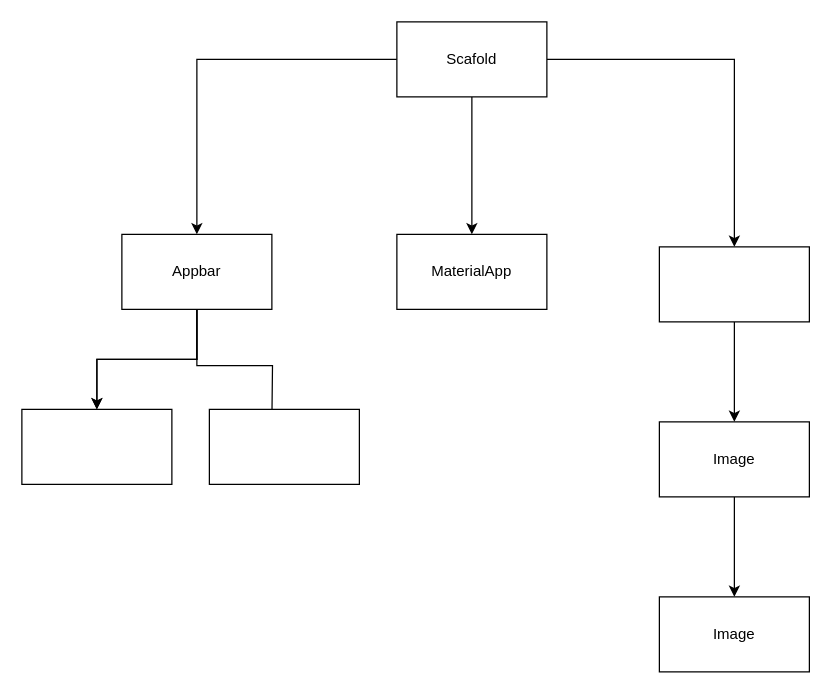
The diagram is 831 pixels wide and 694 high, and some of its shapes have lost their labels. Each missing label, with the box of its shape:
Center: (658, 246, 809, 322)
Color: (208, 408, 359, 484)
Text: (21, 408, 172, 484)
